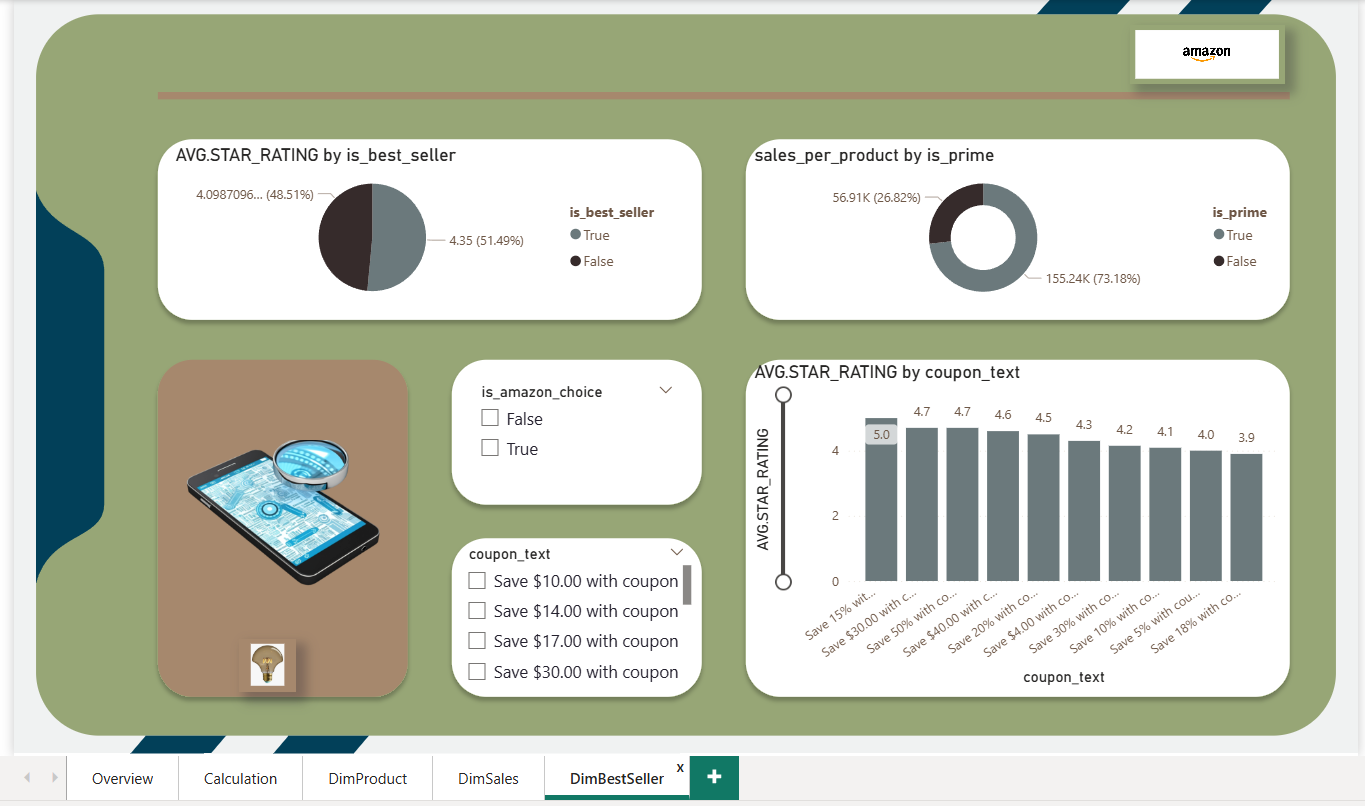

Layout of this report page (visuals, bound fields, positions):
{"tool":"powerbi","page":{"name":"DimBestSeller","canvas":[1280,720],"ordinal":4},"visuals":[{"type":"slicer","fields":{"Values":["Phone search.is_amazon_choice"]},"box":[432.5,360,207.5,108.8],"z":0},{"type":"pieChart","fields":{"Category":["DimBestSeller.is_best_seller"],"Y":["Phone search.AVG.STAR_RATING"]},"box":[148.8,136.9,483.3,159.5],"z":1000},{"type":"lineStackedColumnComboChart","fields":{"Category":["DimBestSeller.coupon_text"],"Y":["Phone search.AVG.STAR_RATING"]},"box":[700,344,509.5,314.3],"z":2000},{"type":"donutChart","fields":{"Category":["Phone search.is_prime"],"Y":["Phone search.sales_per_product"]},"box":[700,137.5,517.5,160],"z":3000},{"type":"slicer","fields":{"Values":["DimBestSeller.coupon_text"]},"box":[420,513.8,230,148.8],"z":4000},{"type":"image","box":[134.5,414.4,241.5,150.9],"z":5000},{"type":"image","box":[214.3,608.3,54.8,50],"z":6000},{"type":"image","box":[1063.5,23.3,146.8,56.3],"z":7000}]}

Visuals, with their boxes on the page's 1280x720 design canvas (x1, y1, x2, y2). These are canvas units, not pixel positions in the 1365x806 screenshot, which may show the page scaled, cropped or inside an application window:
slicer - Phone search.is_amazon_choice: [left=432, top=360, right=640, bottom=469]
pieChart - DimBestSeller.is_best_seller x Phone search.AVG.STAR_RATING: [left=149, top=137, right=632, bottom=296]
lineStackedColumnComboChart - DimBestSeller.coupon_text x Phone search.AVG.STAR_RATING: [left=700, top=344, right=1210, bottom=658]
donutChart - Phone search.is_prime x Phone search.sales_per_product: [left=700, top=138, right=1218, bottom=298]
slicer - DimBestSeller.coupon_text: [left=420, top=514, right=650, bottom=663]
image: [left=134, top=414, right=376, bottom=565]
image: [left=214, top=608, right=269, bottom=658]
image: [left=1064, top=23, right=1210, bottom=80]
